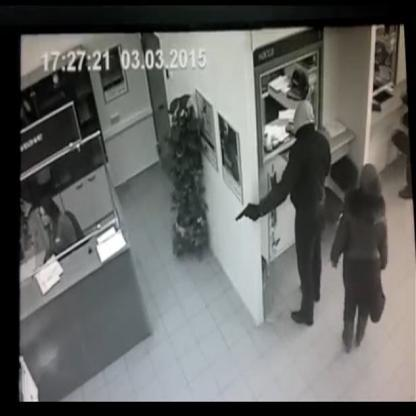pistols: (234, 198, 260, 230)
